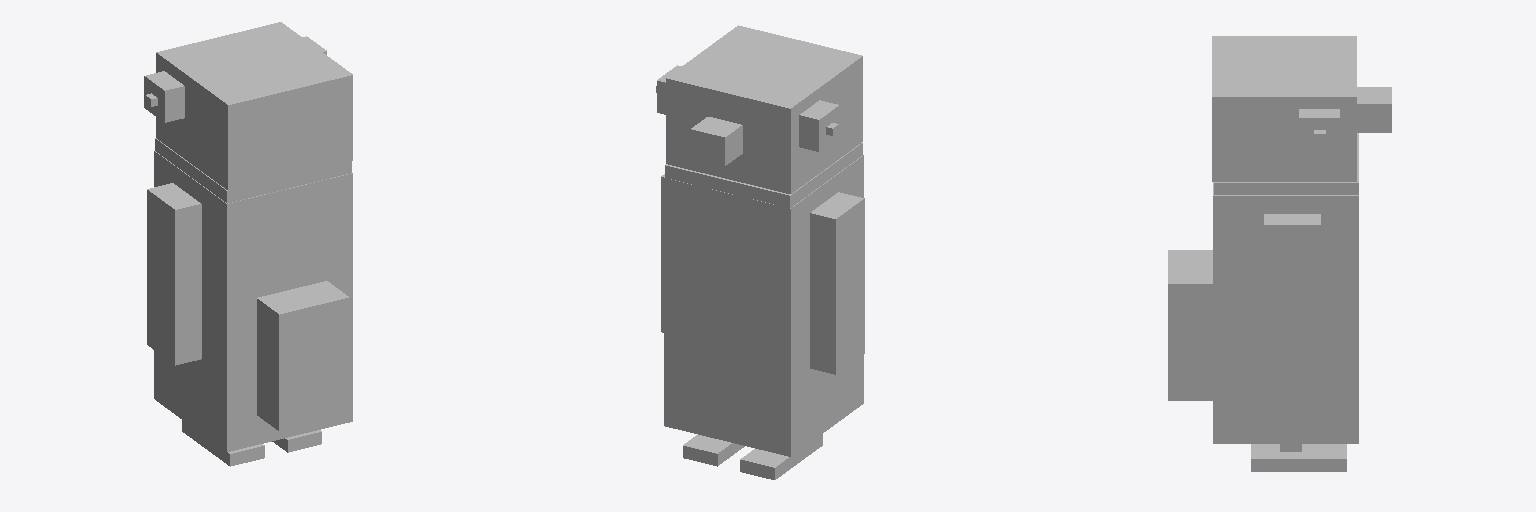
File: Penguin.obj
3 views of the same model, side by side, from view 1: azimuth 30°, elevation 25°; view 2: azimuth 150°, elevation 25°; view 3: azimuth 270°, elevation 25° (orthographic).
Visible parts, largest first — view 1: Cube, Cube.002, Cube.014, Cube.006, Cube.001, Cube.005, Cube.007, Cube.008; view 2: Cube, Cube.002, Cube.006, Cube.001, Cube.003, Cube.005, Cube.007, Cube.008; view 3: Cube, Cube.002, Cube.011, Cube.014, Cube.008, Cube.001, Cube.003, Cube.012.
Boxes of the visible parts, x1,y1,x2,y2 form: Cube: [154, 151, 352, 451]; Cube.002: [156, 22, 352, 190]; Cube.014: [257, 281, 349, 431]; Cube.006: [147, 183, 201, 365]; Cube.001: [155, 138, 351, 203]; Cube.005: [144, 71, 184, 122]; Cube.007: [182, 420, 264, 466]; Cube.008: [272, 430, 321, 452]; Cube: [664, 155, 863, 456]; Cube.002: [666, 25, 862, 193]; Cube.006: [810, 192, 864, 374]; Cube.001: [665, 143, 862, 207]; Cube.003: [690, 117, 742, 165]; Cube.005: [799, 100, 839, 151]; Cube.007: [740, 434, 822, 479]; Cube.008: [683, 435, 744, 466]; Cube: [1213, 182, 1358, 443]; Cube.002: [1212, 36, 1356, 181]; Cube.011: [1264, 214, 1320, 379]; Cube.014: [1168, 250, 1212, 400]; Cube.008: [1251, 444, 1346, 471]; Cube.001: [1214, 133, 1358, 194]; Cube.003: [1357, 87, 1391, 132]; Cube.012: [1299, 109, 1339, 149].
Bounding box in the file's own units: 2.8 × 5.76 × 3.07.